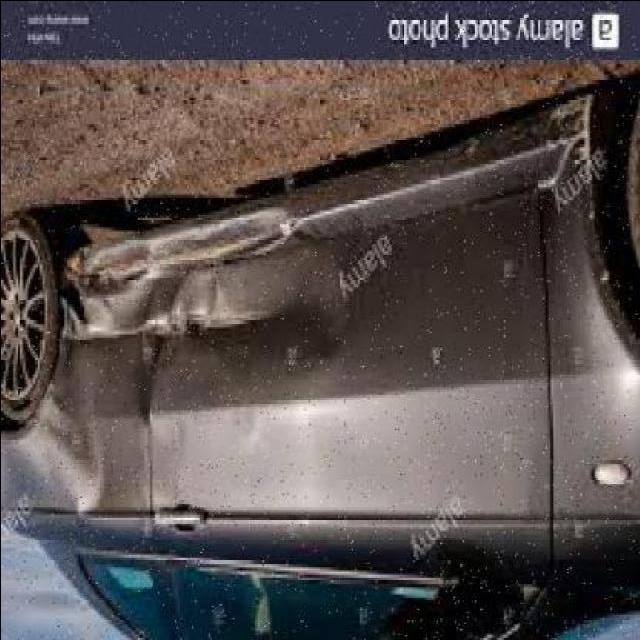RunningBoard-Dent: (71, 203, 295, 277)
doorouter-dent: (149, 253, 545, 563)
quaterpanel-dent: (3, 278, 150, 552)
